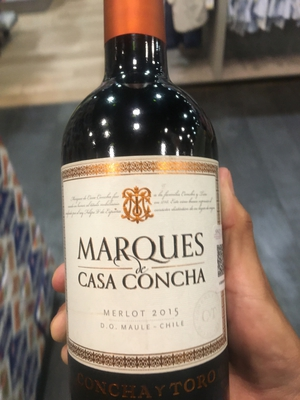marques de casa concha merlot: (61, 2, 227, 400)
